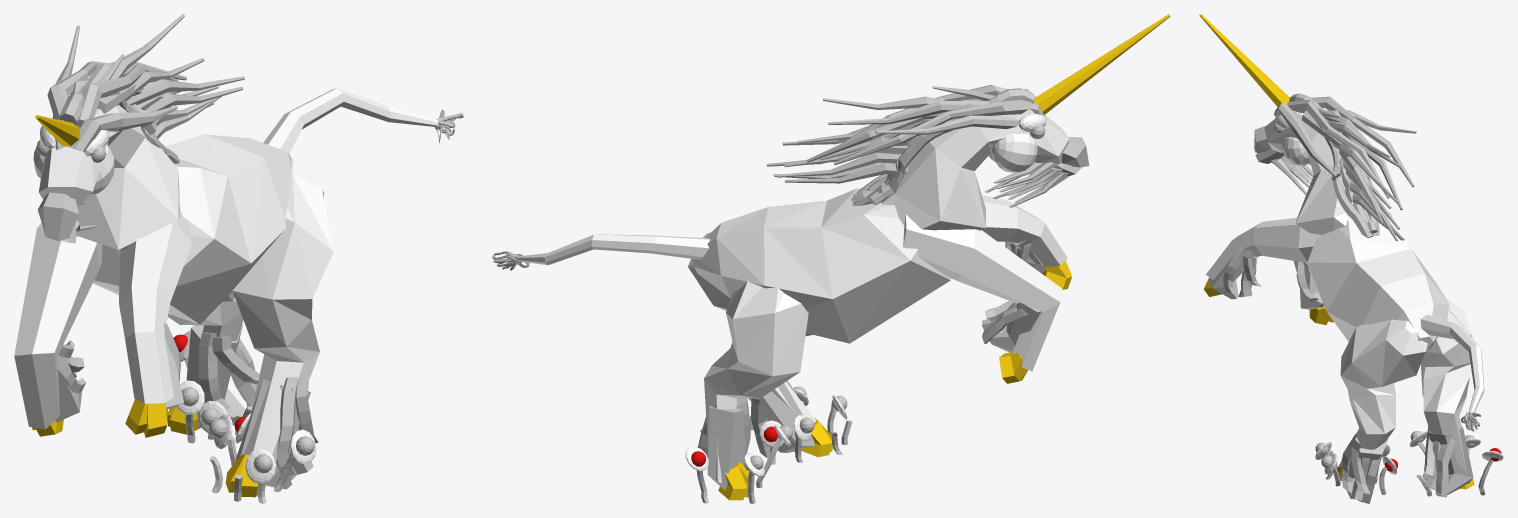
The picture shows the model from 3 angles, left to right: view 1: azimuth 30°, elevation 25°; view 2: azimuth 150°, elevation 25°; view 3: azimuth 270°, elevation 25°; orthographic projection. The views are drawn at different scales.
Visible parts, largest first — view 1: group1179240691, group2097737718, group452177408, group1053255155, group812514295, group27701522, group1949776994, group2014086010, group923250548, group1597879300, group974151619, group417268613 (+18 smaller); view 2: group1179240691, group452177408, group495185134, group1053255155, group27701522, group812514295, group974151619, group1949776994, group923250548, group325724371, group769054244, group287333419 (+9 smaller); view 3: group1179240691, group2097737718, group495185134, group452177408, group812514295, group1949776994, group27701522, group140861796, group325724371, group974151619, group417268613, group769054244 (+13 smaller).
Boxes of the visible parts, x1=… form: group1179240691: x1=93, y1=134, x2=292, y2=324; group2097737718: x1=232, y1=159, x2=333, y2=461; group452177408: x1=38, y1=104, x2=179, y2=249; group1053255155: x1=14, y1=222, x2=102, y2=429; group812514295: x1=119, y1=208, x2=191, y2=403; group27701522: x1=263, y1=88, x2=439, y2=153; group1949776994: x1=235, y1=377, x2=318, y2=489; group2014086010: x1=68, y1=106, x2=177, y2=152; group923250548: x1=55, y1=340, x2=86, y2=422; group1597879300: x1=37, y1=192, x2=78, y2=241; group974151619: x1=186, y1=324, x2=245, y2=427; group417268613: x1=73, y1=63, x2=178, y2=127; group1179240691: x1=692, y1=188, x2=950, y2=343; group452177408: x1=881, y1=109, x2=1069, y2=230; group495185134: x1=704, y1=280, x2=808, y2=483; group1053255155: x1=903, y1=214, x2=1062, y2=371; group27701522: x1=517, y1=234, x2=710, y2=265; group812514295: x1=982, y1=195, x2=1067, y2=267; group974151619: x1=707, y1=405, x2=748, y2=490; group1949776994: x1=748, y1=380, x2=814, y2=458; group923250548: x1=982, y1=300, x2=1041, y2=352; group325724371: x1=1034, y1=14, x2=1170, y2=114; group769054244: x1=833, y1=100, x2=1032, y2=165; group287333419: x1=991, y1=133, x2=1037, y2=172; group1179240691: x1=1307, y1=218, x2=1449, y2=350; group2097737718: x1=1339, y1=319, x2=1427, y2=467; group495185134: x1=1421, y1=298, x2=1472, y2=472; group452177408: x1=1264, y1=109, x2=1372, y2=234; group812514295: x1=1206, y1=217, x2=1321, y2=279; group1949776994: x1=1339, y1=433, x2=1388, y2=503; group27701522: x1=1420, y1=314, x2=1484, y2=413; group140861796: x1=1208, y1=246, x2=1261, y2=299; group325724371: x1=1199, y1=14, x2=1289, y2=106; group974151619: x1=1428, y1=426, x2=1473, y2=496; group417268613: x1=1287, y1=99, x2=1389, y2=198; group769054244: x1=1311, y1=96, x2=1414, y2=187.
Bounding box in the file's own units: 1.84 × 1.52 × 1.14.
